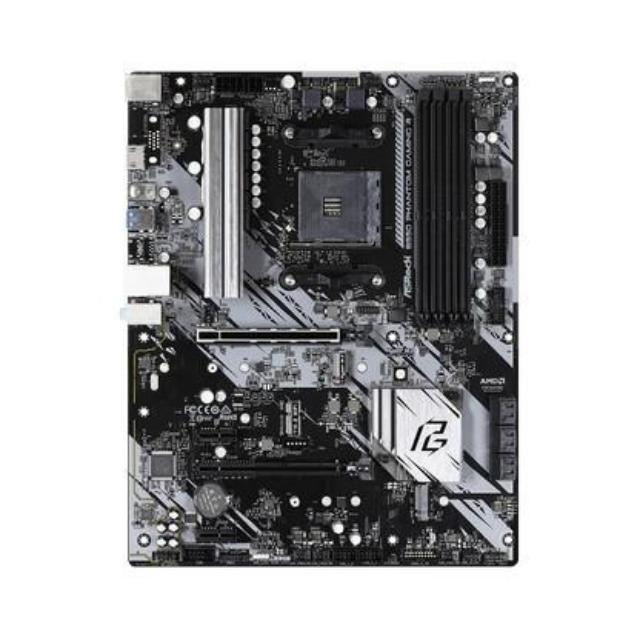Mainboard: (118, 64, 527, 573)
